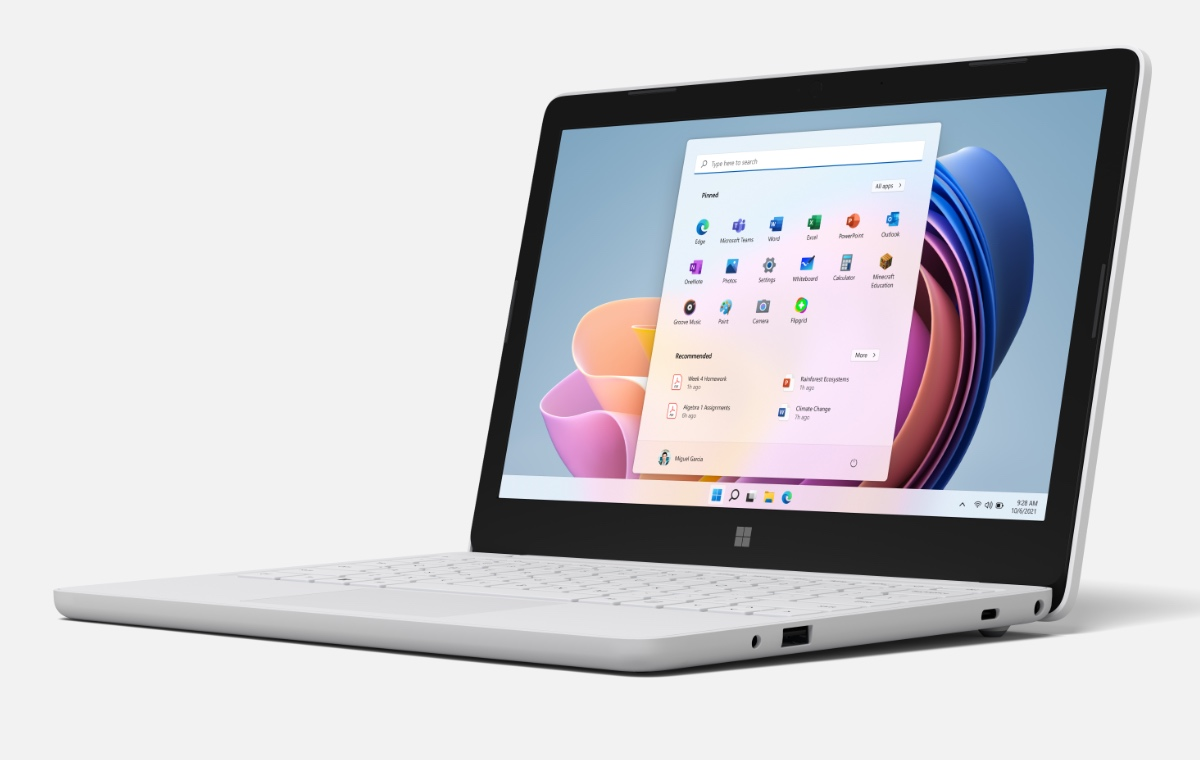laptops: (48, 47, 1150, 680)
